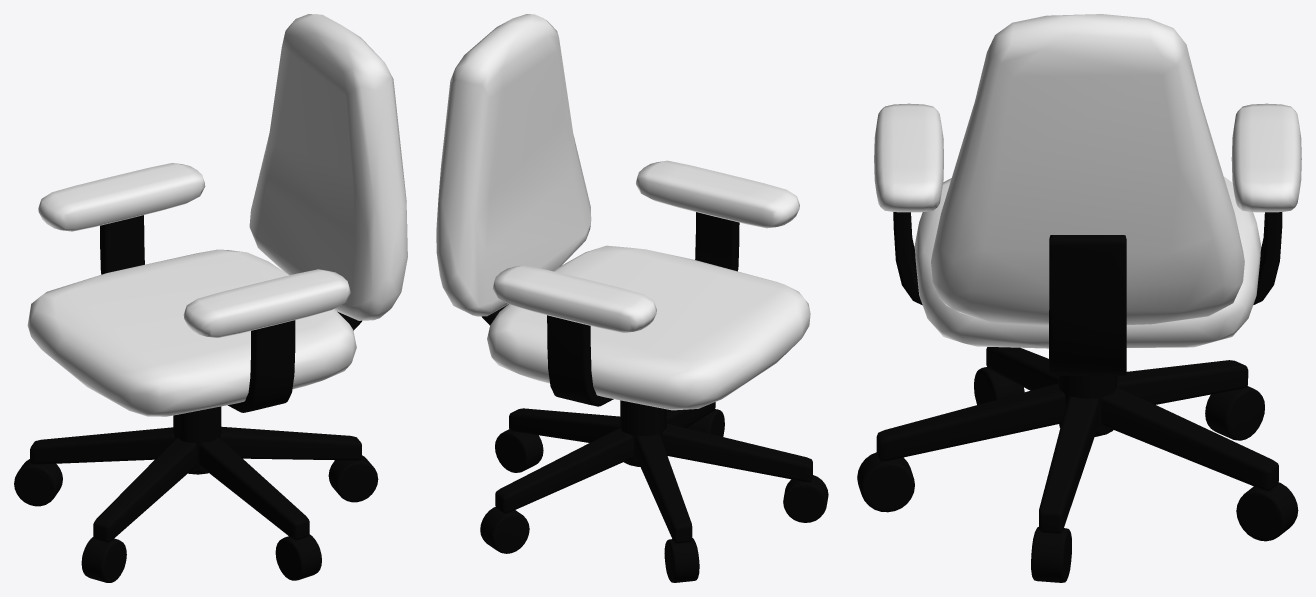
The model's file is office_chair_white.fbx.
3 views of the same model, side by side, from view 1: azimuth 30°, elevation 25°; view 2: azimuth 150°, elevation 25°; view 3: azimuth 270°, elevation 25° (orthographic). The views are drawn at different scales.
Visible parts, largest first — view 1: office_chair_white; view 2: office_chair_white; view 3: office_chair_white.
Boxes of the visible parts, bbox=[...] form: office_chair_white: bbox=[14, 14, 407, 582]; office_chair_white: bbox=[436, 14, 828, 582]; office_chair_white: bbox=[857, 14, 1301, 582].
Size of the model in its own units: 76.26 by 103 by 73.42.
2 materials, 2 textured.
